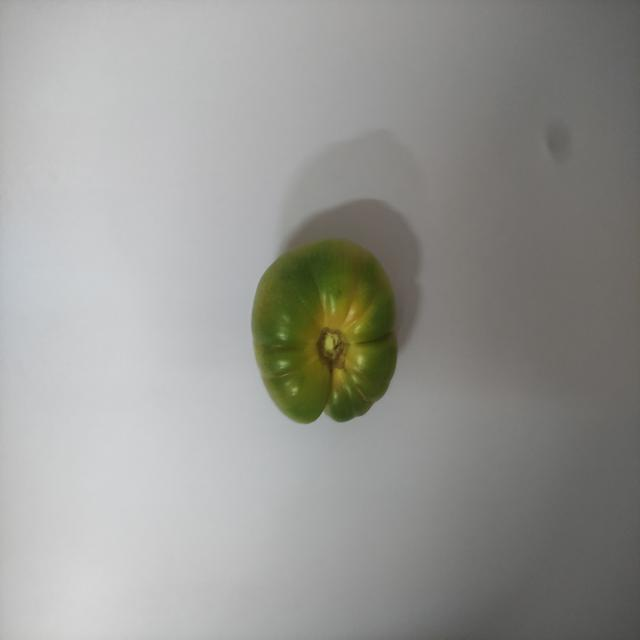yesil: (242, 227, 408, 431)
